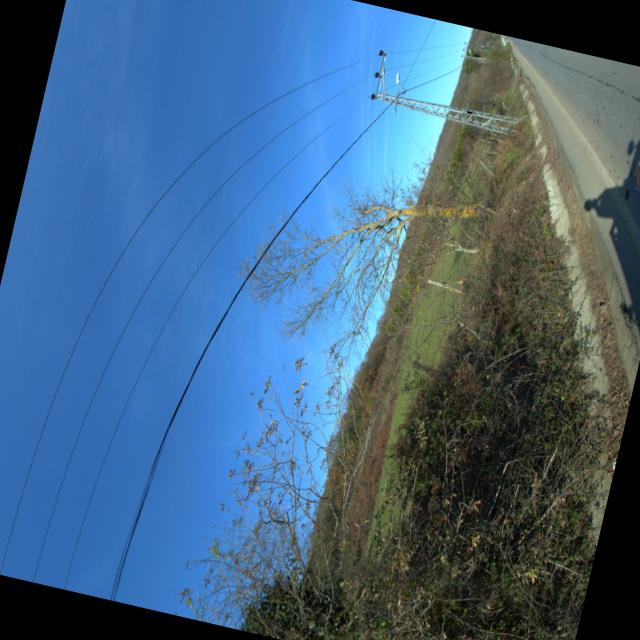Utility Pole Information Plate: (467, 110, 471, 112)
